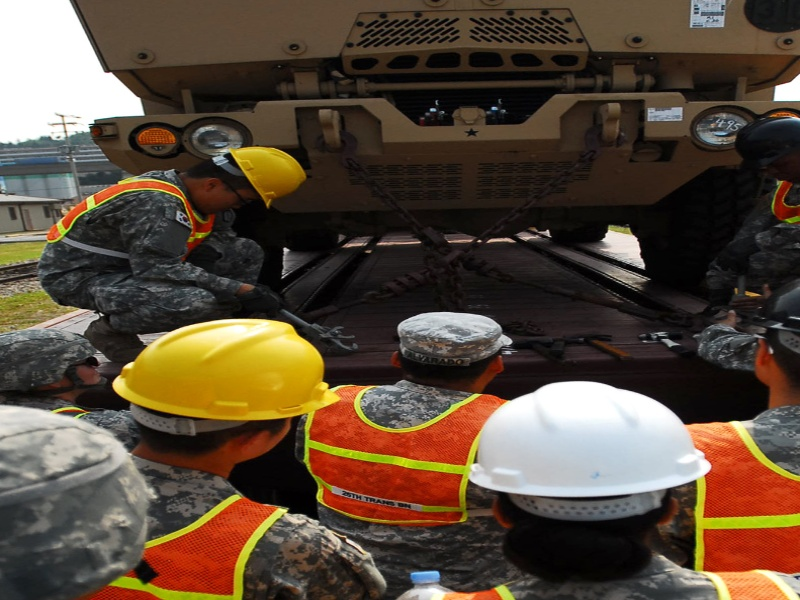helmet: (472, 378, 712, 501), (112, 318, 344, 423), (234, 147, 308, 203)
jacket: (308, 382, 483, 533), (687, 414, 800, 587), (135, 479, 294, 600), (40, 174, 210, 239)
